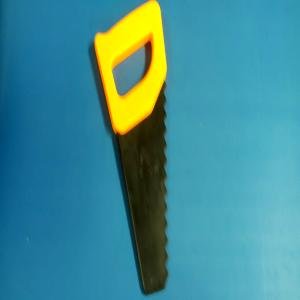serrote: (93, 0, 169, 295)
